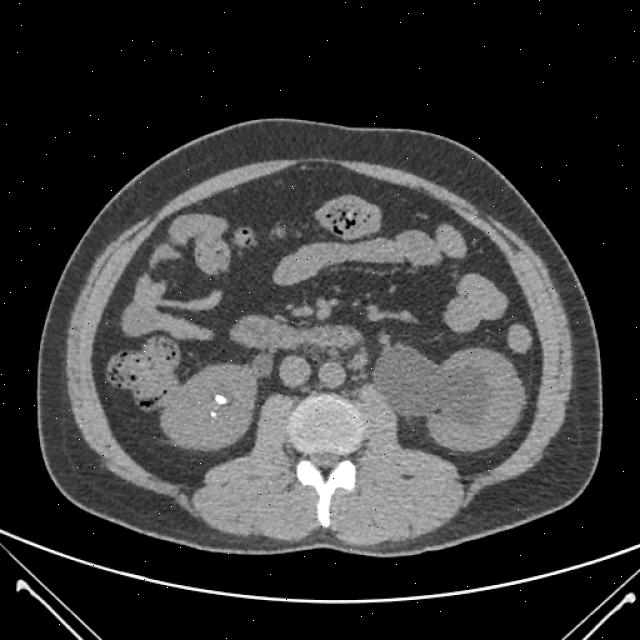kidneystone: (215, 395, 228, 404), (210, 411, 218, 417)
